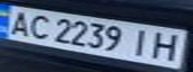2: (48, 16, 75, 46), (66, 18, 90, 48)
3: (84, 20, 109, 51)
9: (103, 22, 130, 54)
A: (3, 8, 36, 36)
C: (24, 12, 54, 42)
H: (148, 29, 187, 62)
I: (127, 26, 157, 57)
